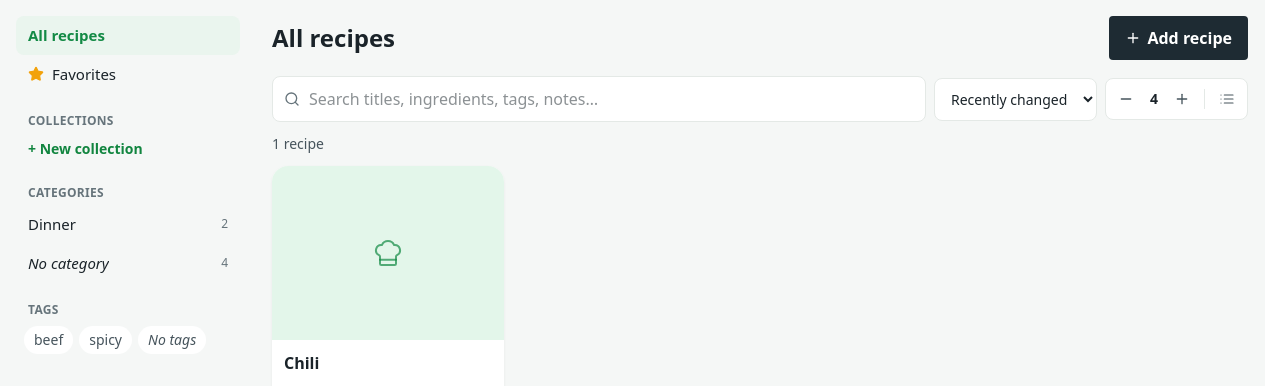
Test: a search that finds nothing where you are › offers Search all on the count line; it keeps the words and drops the category
The image size is (1265, 386).
Step 1. Click the button "Dinner 2" → click(128, 224), box 16,205 -> 240,244
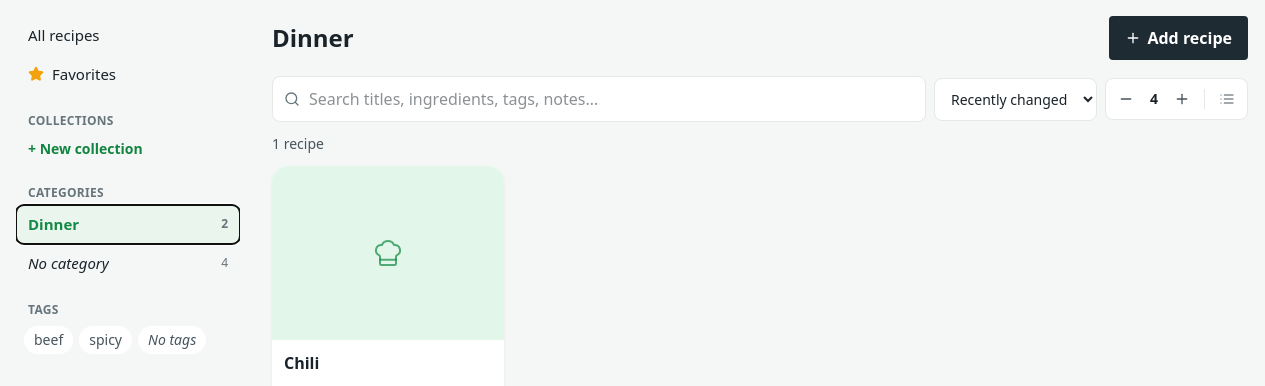
Step 2. Type "breakfast" into the search field named "Search recipes" → (599, 99), box 272,76 -> 926,122
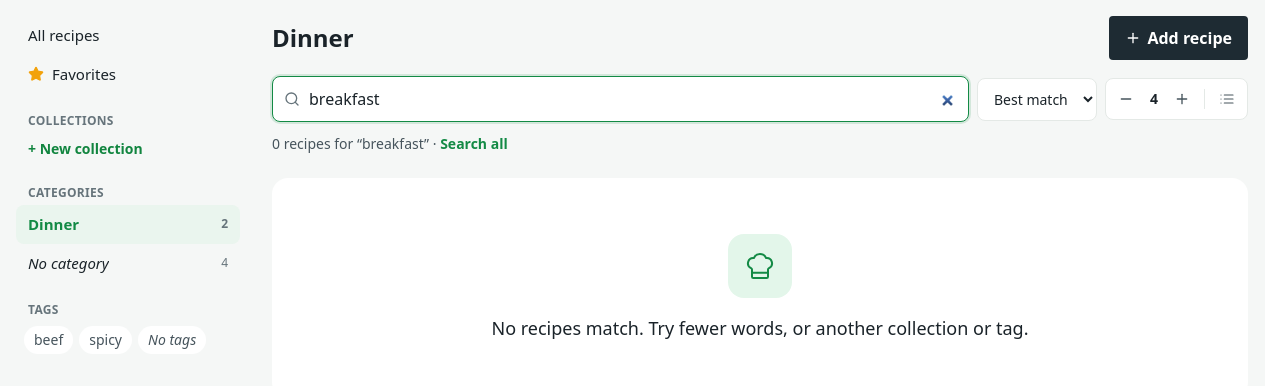
Step 3. Click the button "Search all" → click(474, 144), box 440,134 -> 508,154
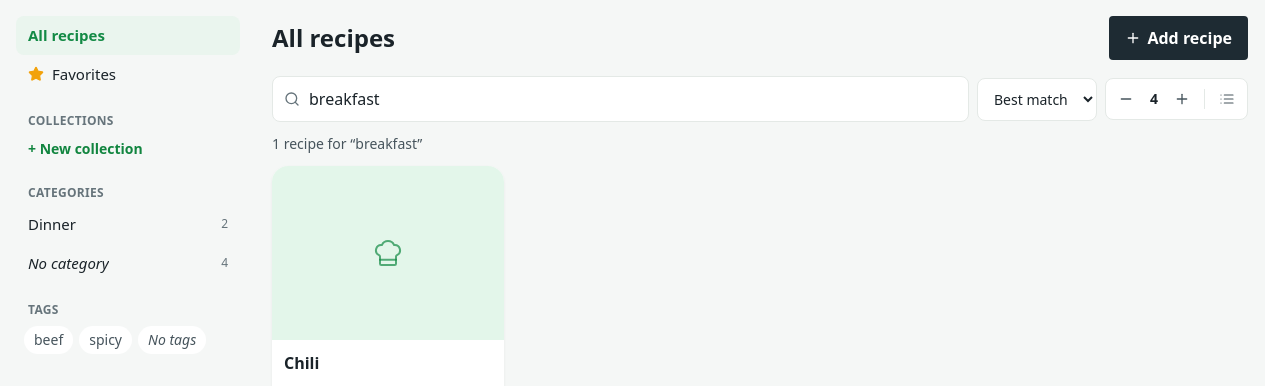
Expected: the heading "All recipes" is shown, 272,22 -> 395,54
